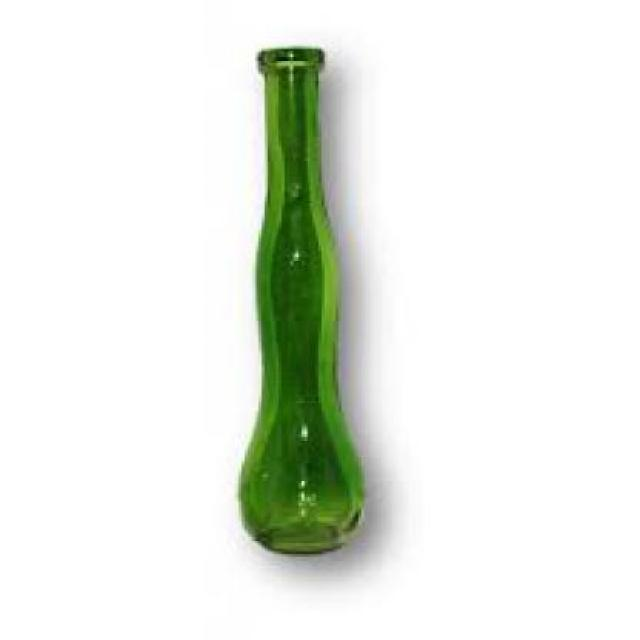GLASS: (236, 46, 364, 552)
